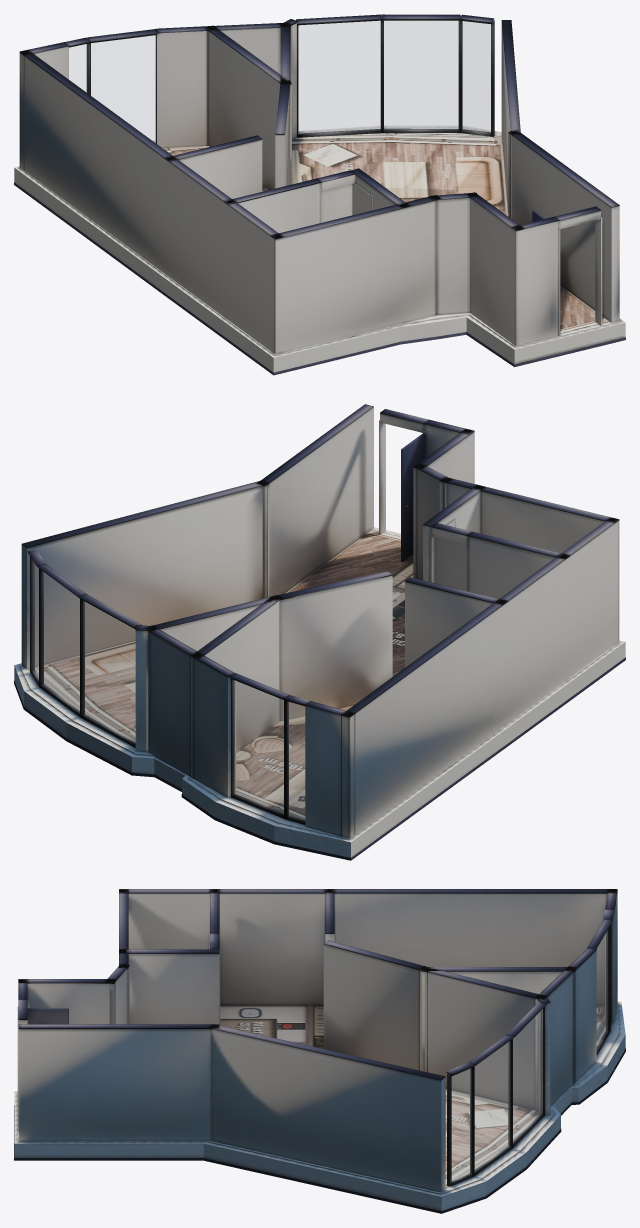
The picture shows the model from 3 angles, top to bottom: view 1: azimuth 30°, elevation 25°; view 2: azimuth 150°, elevation 25°; view 3: azimuth 270°, elevation 25°; orthographic projection. The views are drawn at different scales.
Parts seen in each view (by area): view 1: plan, glass2_m, glass3_m, glass1_m, glass4_m, glass0_m; view 2: plan, glass2_m, glass1_m, glass3_m, glass0_m, glass4_m; view 3: plan, glass3_m, glass2_m, glass4_m, glass1_m.
Part boxes in pixels (x1,y1,x2,y2): plan: (14,14,625,375); glass2_m: (298,21,380,133); glass3_m: (384,21,458,129); glass1_m: (91,35,155,142); glass4_m: (462,21,490,132); glass0_m: (69,44,87,92); plan: (14,404,625,860); glass2_m: (83,601,135,743); glass1_m: (233,680,283,814); glass3_m: (42,571,79,712); glass0_m: (288,702,304,820); glass4_m: (33,562,38,679); plan: (14,889,625,1213); glass3_m: (475,1041,509,1170); glass2_m: (513,1009,542,1142); glass4_m: (452,1068,470,1181); glass1_m: (597,931,607,1048).
Size of the model in its own units: 8.45 by 2.62 by 11.14.
Materials: 2 (1 with a texture image).
